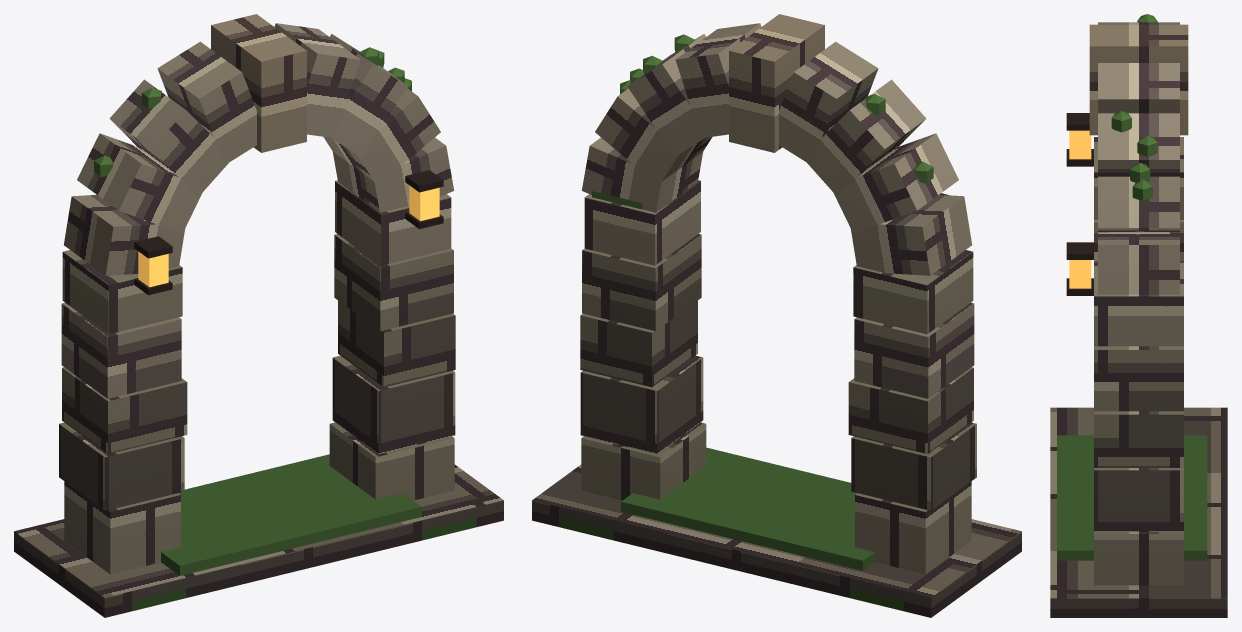
The model's file is portal_arch.glb.
3 renders of one model, left to right at view 1: azimuth 30°, elevation 25°; view 2: azimuth 150°, elevation 25°; view 3: azimuth 270°, elevation 25°, orthographic. The views are drawn at different scales.
Parts seen in each view (by area): view 1: portal_arch; view 2: portal_arch; view 3: portal_arch.
Part boxes in pixels (x1,y1,x2,y2): portal_arch: (14, 14, 503, 617); portal_arch: (532, 14, 1021, 617); portal_arch: (1050, 14, 1227, 617).
Size of the model in its own units: 3.3 by 3.93 by 1.3.
3 materials, 1 textured.
